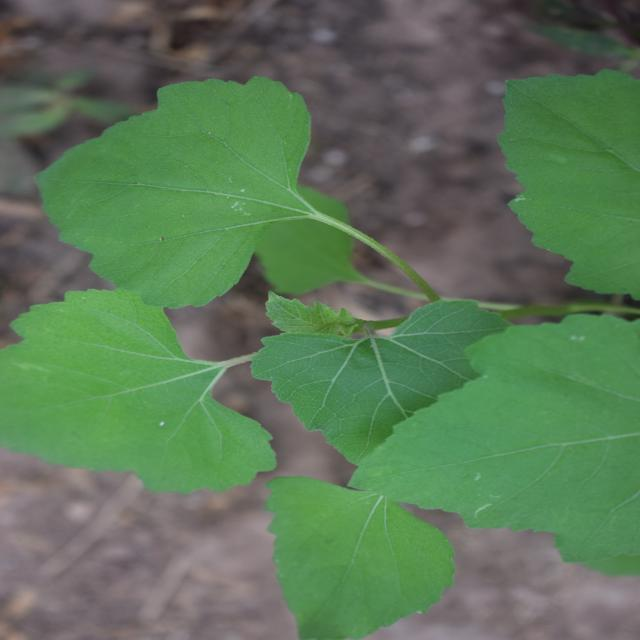cocklebur: (32, 0, 583, 631)
